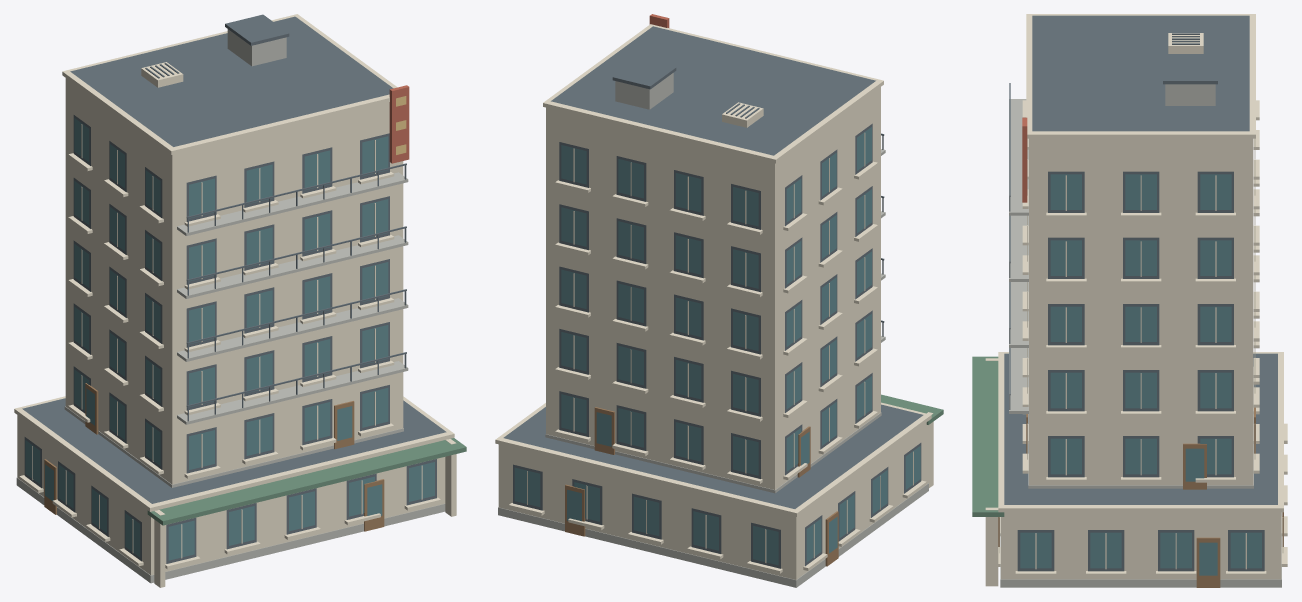
File: q03-hotel.glb
The picture shows the model from 3 angles, left to right: view 1: azimuth 30°, elevation 25°; view 2: azimuth 150°, elevation 25°; view 3: azimuth 270°, elevation 25°; orthographic projection. The views are drawn at different scales.
Size of the model in its own units: 13.46 by 18.22 by 11.26.
